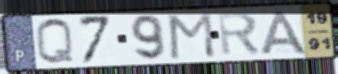7: (78, 14, 114, 67)
9: (128, 14, 168, 62)
A: (259, 9, 310, 56)
M: (167, 11, 217, 61)
Q: (33, 17, 77, 67)
R: (215, 10, 263, 58)
